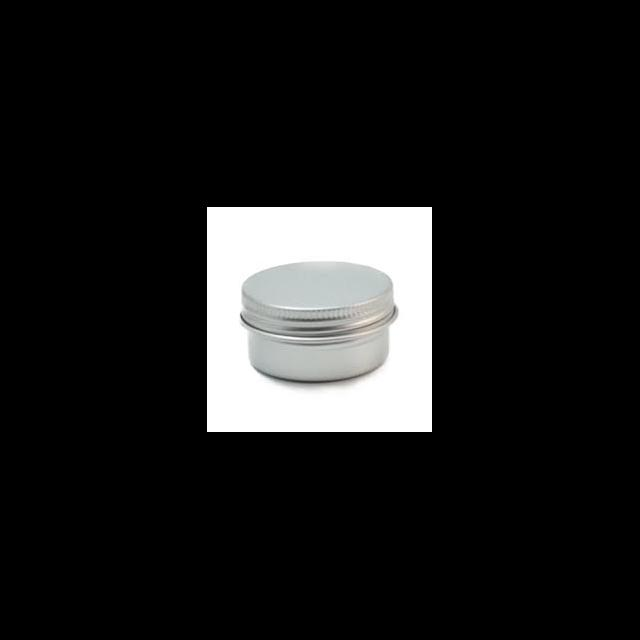metal: (240, 262, 398, 382)
